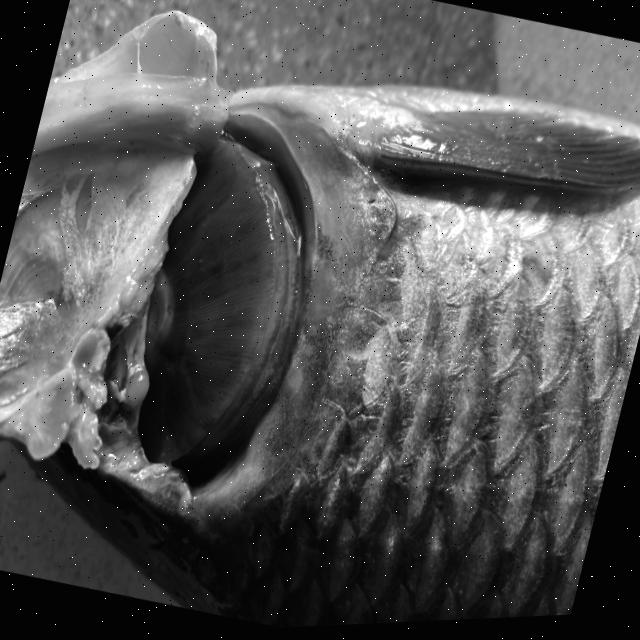Fresh: (87, 86, 360, 535)
